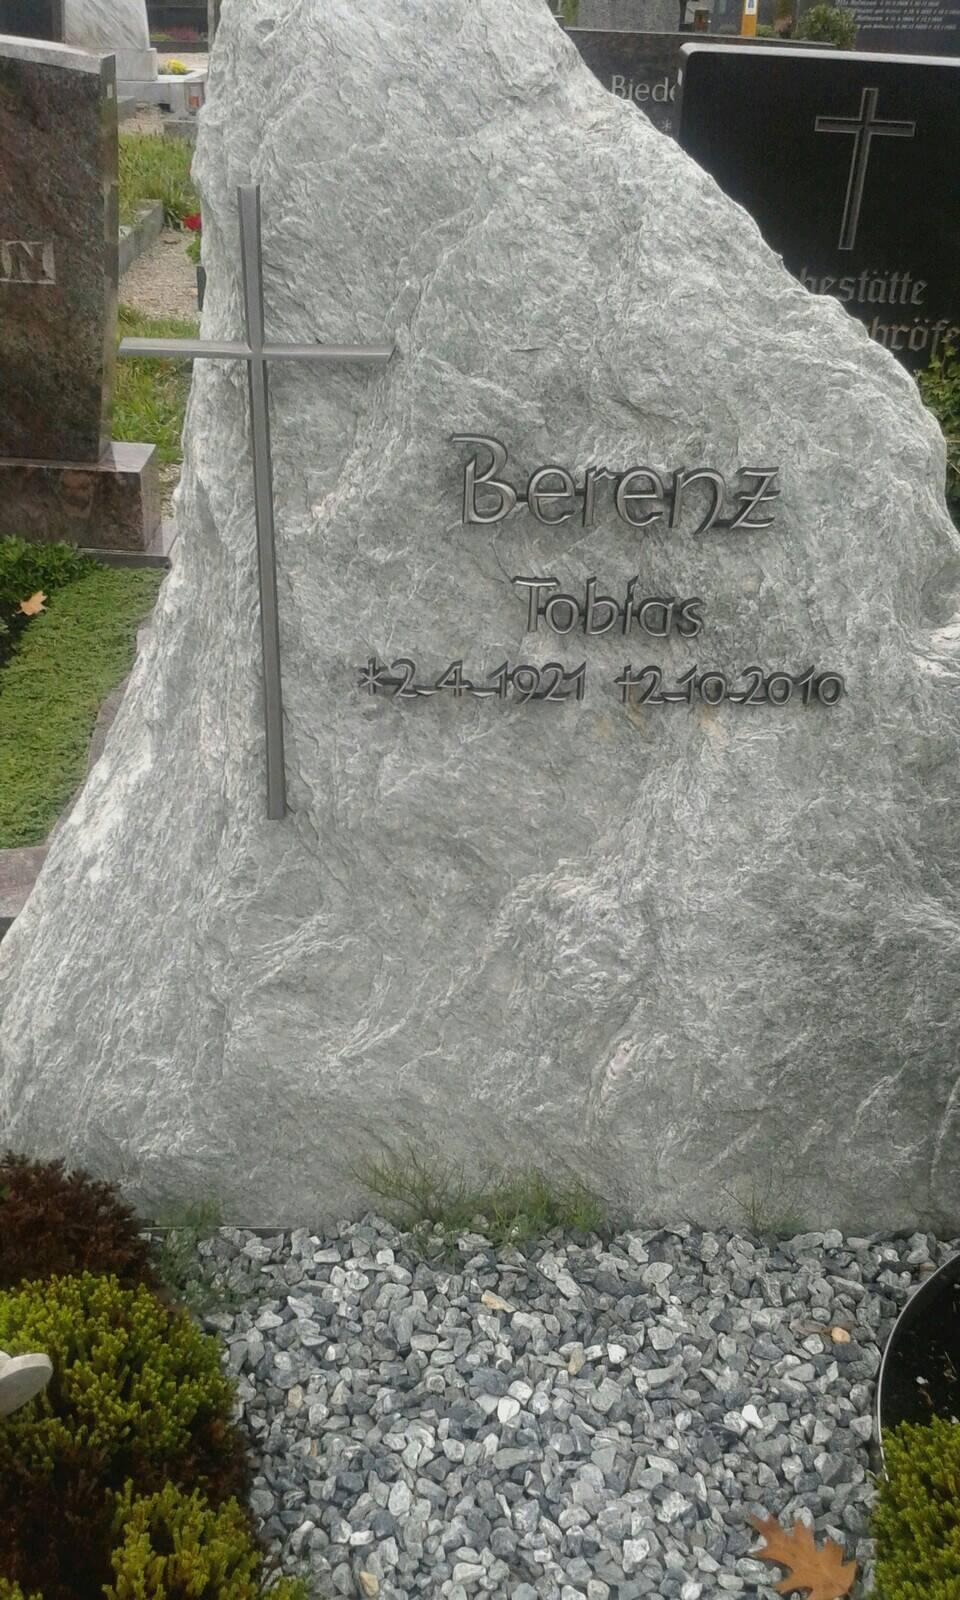upright: (0, 0, 960, 1253)
